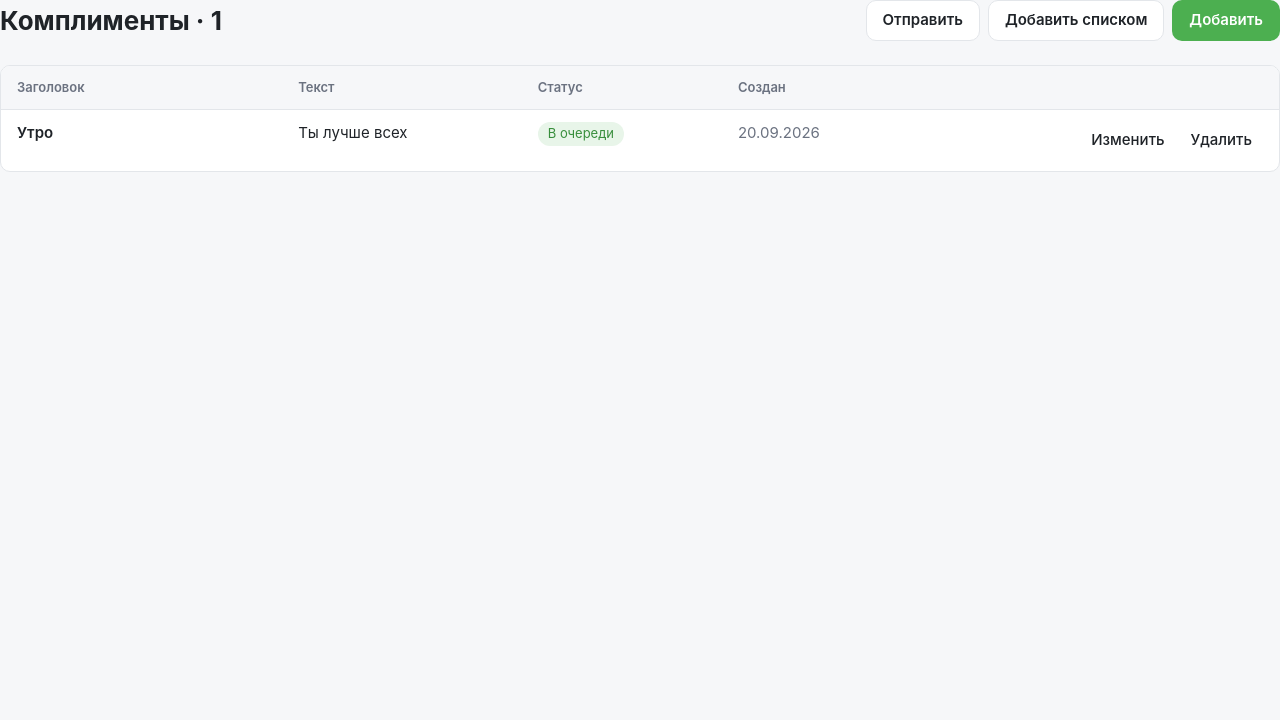
it: ComplimentsPage: отправка одного комплимента › ошибка загрузки подписчиков — повтор
Expected: the heading "Комплименты · 1" is shown, [0,1,222,40]
Click the button "Отправить" at (923, 20), box [866,0,980,40]
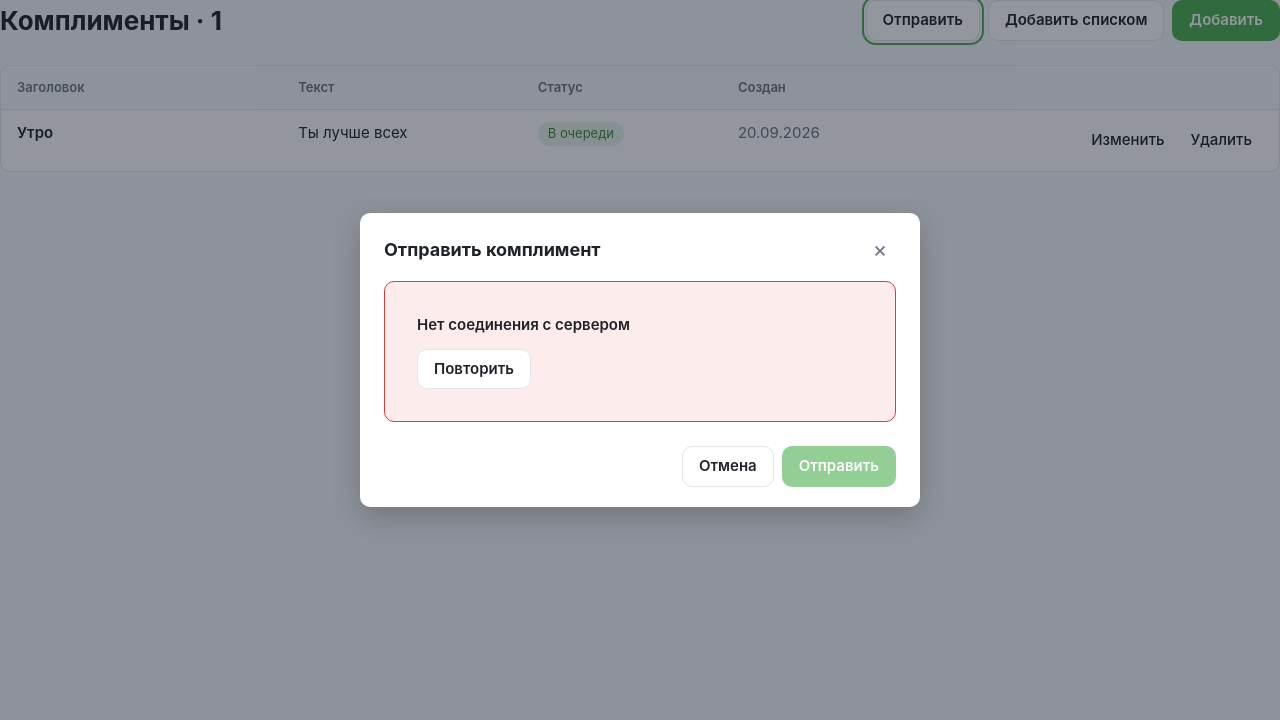
Now the text "Нет соединения с сервером" is shown, box [417,314,630,337]
Click the button "Повторить" at (474, 369), box [417,349,531,389]
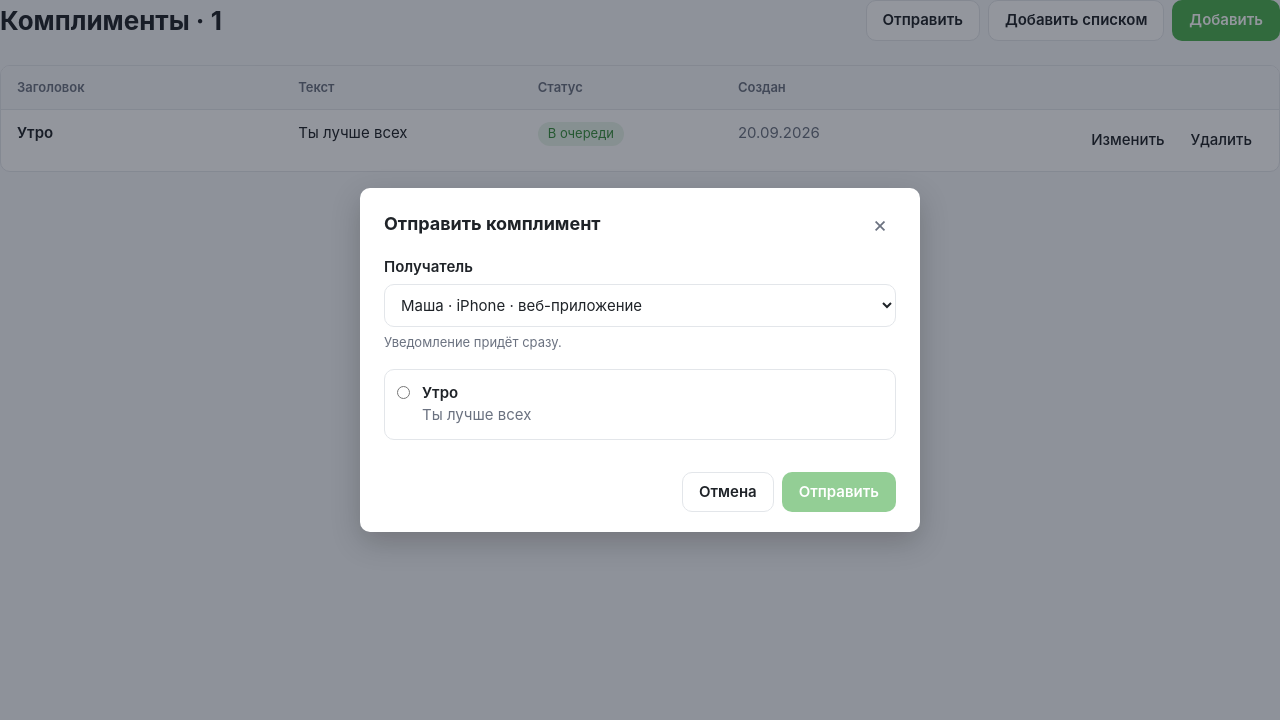
Now the dropdown labelled "Получатель" shows "Маша · iPhone · веб-приложение", box [384,284,896,327]
